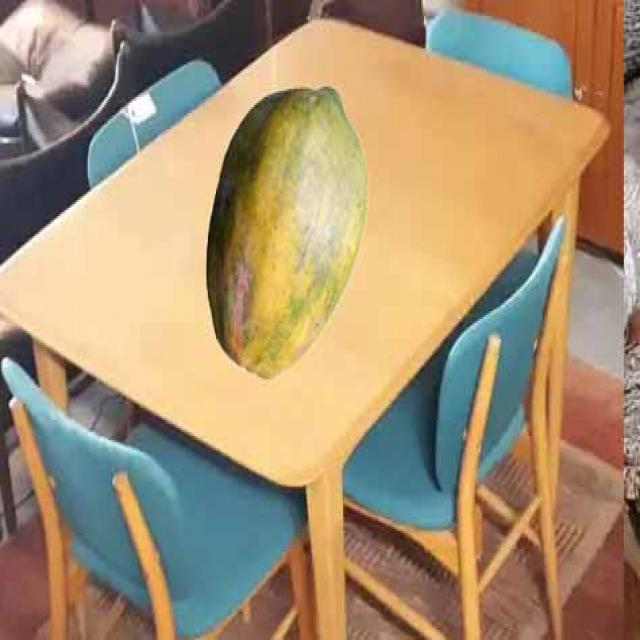Pepaya rippen: (208, 69, 367, 392)
